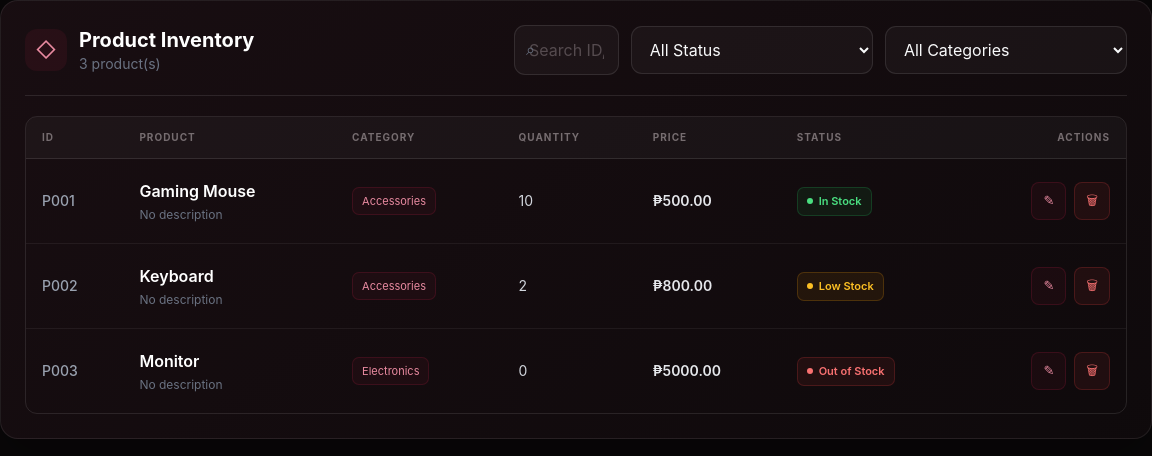
Scenario: Inventory Management System › should display only Out of Stock products when the Out of Stock filter is selected
Select "Out of Stock" in the 1st dropdown: (752, 50) [631,26,873,74]
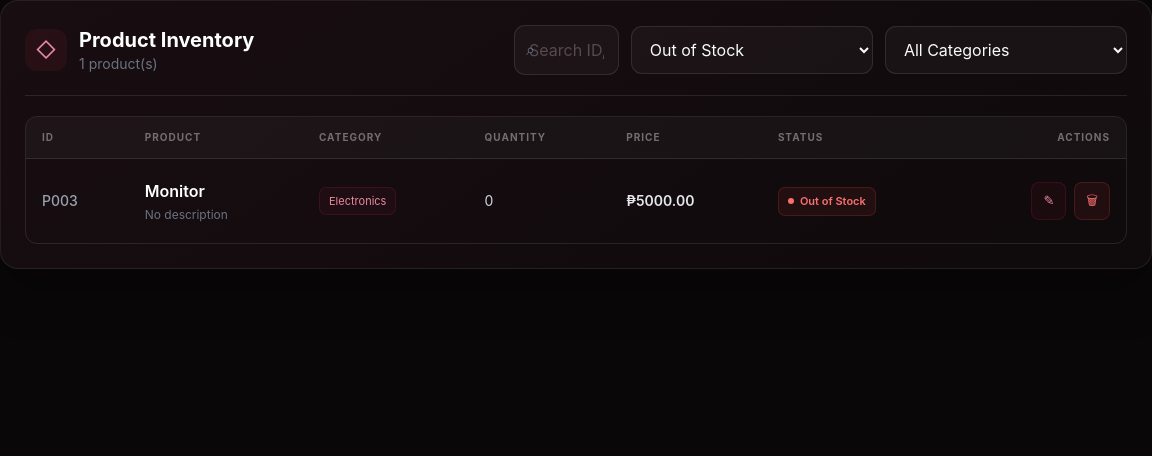
Expected: the text "Monitor" is shown, [145,181,205,201]
Result: the text "Gaming Mouse" is gone
Result: the text "Keyboard" is gone
